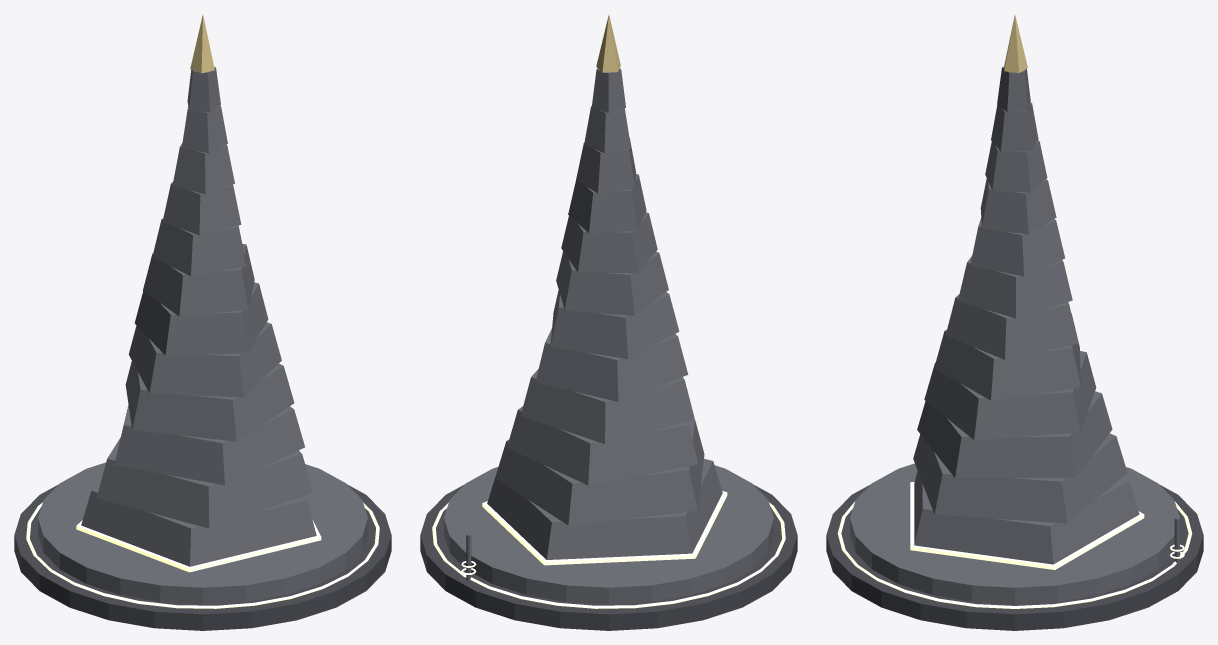
The model's file is zone_high_1_t2.glb.
3 renders of one model, left to right at view 1: azimuth 30°, elevation 25°; view 2: azimuth 150°, elevation 25°; view 3: azimuth 270°, elevation 25°, orthographic.
Visible parts, largest first — view 1: zone_high_1_t2; view 2: zone_high_1_t2; view 3: zone_high_1_t2.
Boxes of the visible parts, x1,y1,x2,y2 form: zone_high_1_t2: [14, 15, 391, 630]; zone_high_1_t2: [420, 15, 797, 630]; zone_high_1_t2: [826, 15, 1203, 630].
Size of the model in its own units: 28.8 by 45.27 by 28.8.
